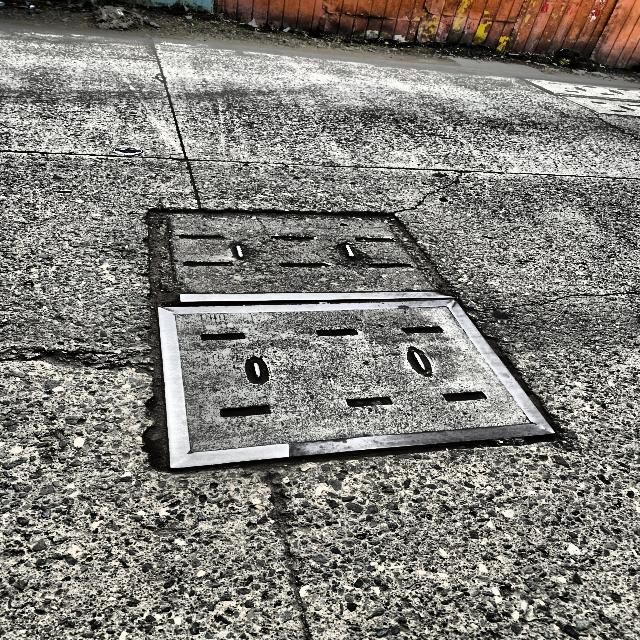major_scaling: (0, 361, 307, 640), (286, 454, 637, 640)
